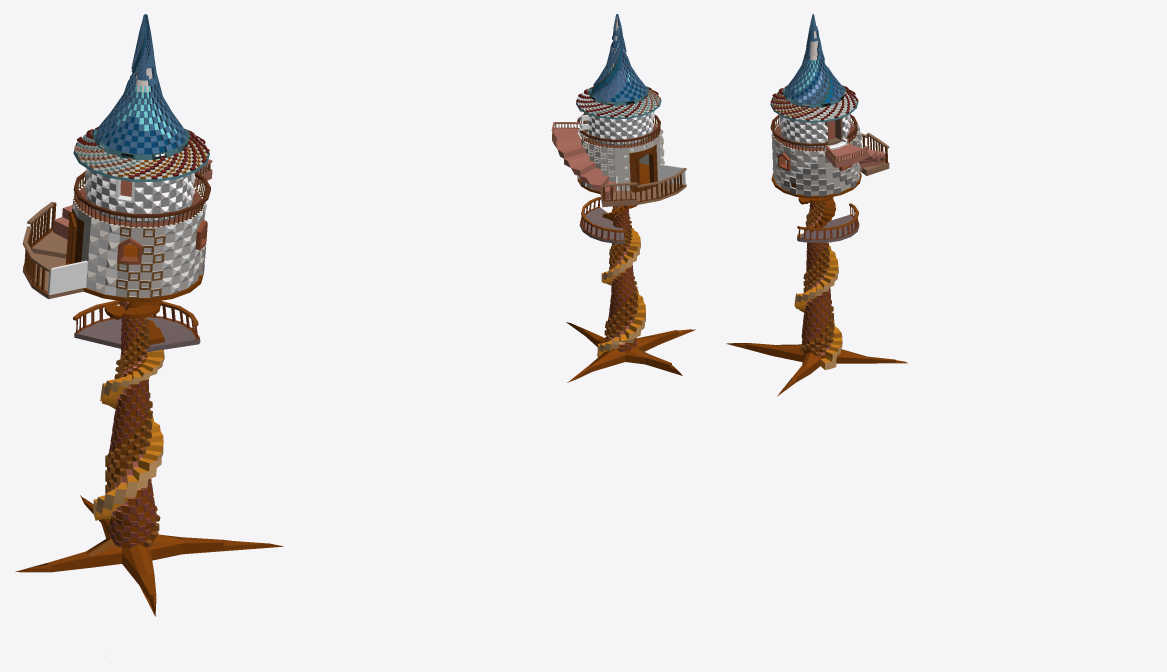
File: HomeBase.fbx
3 renders of one model, left to right at view 1: azimuth 30°, elevation 25°; view 2: azimuth 150°, elevation 25°; view 3: azimuth 270°, elevation 25°, orthographic. The views are drawn at different scales.
Parts seen in each view (by area): view 1: Cylinder.014_90, Cylinder.021_93, Cylinder.033_105, Cylinder.053_125, Cylinder.052_124, Cylinder.029_101, Cylinder.018_91, Cylinder.020_92, Cylinder.057_129, Cylinder.035_107, Cylinder.019_149, Cylinder.063_135 (+21 smaller); view 2: Cylinder.014_90, Cylinder.021_93, Cylinder.027_99, Cylinder.033_105, Cylinder.052_124, Cylinder.029_101, Cylinder.018_91, Cylinder.025_97, Cylinder.057_129, Cylinder.020_92, Cylinder.053_125, Cylinder.024_96 (+3 smaller); view 3: Cylinder.014_90, Cylinder.021_93, Cylinder.033_105, Cylinder.052_124, Cylinder.027_99, Cylinder.053_125, Cylinder.018_91, Cylinder.065_137, Cylinder.037_109, Cylinder.020_92, Cylinder.035_107, Cylinder.029_101 (+2 smaller).
Part boxes in pixels (bbox=[...]): Cylinder.014_90: bbox=[15, 244, 283, 616]; Cylinder.021_93: bbox=[72, 179, 206, 297]; Cylinder.033_105: bbox=[96, 14, 187, 154]; Cylinder.053_125: bbox=[108, 317, 157, 547]; Cylinder.052_124: bbox=[88, 301, 160, 556]; Cylinder.029_101: bbox=[86, 144, 192, 222]; Cylinder.018_91: bbox=[93, 350, 163, 534]; Cylinder.020_92: bbox=[74, 317, 200, 352]; Cylinder.057_129: bbox=[84, 168, 195, 213]; Cylinder.035_107: bbox=[75, 132, 207, 179]; Cylinder.019_149: bbox=[93, 350, 164, 516]; Cylinder.063_135: bbox=[161, 202, 206, 294]; Cylinder.014_90: bbox=[566, 163, 695, 382]; Cylinder.021_93: bbox=[577, 122, 664, 191]; Cylinder.027_99: bbox=[551, 121, 616, 199]; Cylinder.033_105: bbox=[592, 14, 647, 102]; Cylinder.052_124: bbox=[604, 206, 650, 356]; Cylinder.029_101: bbox=[588, 96, 652, 145]; Cylinder.018_91: bbox=[598, 228, 645, 356]; Cylinder.025_97: bbox=[600, 182, 686, 207]; Cylinder.057_129: bbox=[588, 112, 654, 139]; Cylinder.020_92: bbox=[579, 208, 624, 243]; Cylinder.053_125: bbox=[608, 209, 636, 351]; Cylinder.024_96: bbox=[629, 144, 657, 192]; Cylinder.014_90: bbox=[726, 172, 907, 396]; Cylinder.021_93: bbox=[772, 124, 861, 195]; Cylinder.033_105: bbox=[785, 14, 843, 104]; Cylinder.052_124: bbox=[799, 202, 834, 356]; Cylinder.027_99: bbox=[825, 143, 885, 170]; Cylinder.053_125: bbox=[801, 202, 831, 345]; Cylinder.018_91: bbox=[794, 233, 842, 369]; Cylinder.065_137: bbox=[783, 158, 856, 196]; Cylinder.037_109: bbox=[770, 85, 858, 120]; Cylinder.020_92: bbox=[797, 215, 859, 242]; Cylinder.035_107: bbox=[771, 89, 856, 120]; Cylinder.029_101: bbox=[780, 99, 849, 148].
Size of the model in its own units: 6102 by 15202 by 10265.
